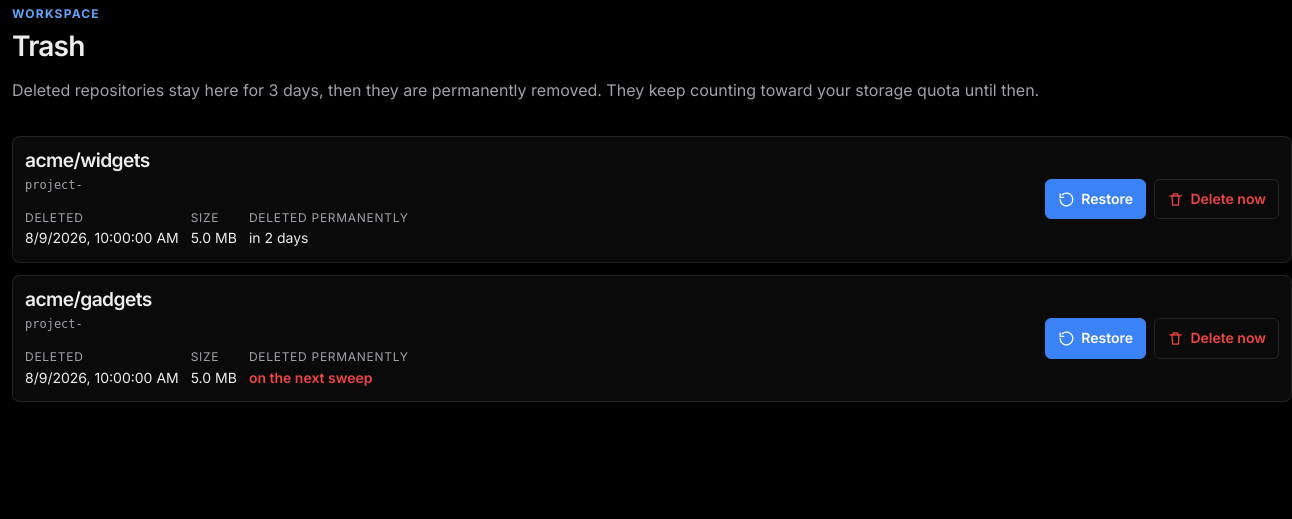
Test: TrashView › keeps the entry and reports the reason when a restore fails
Click the button with aria-label "Restore acme/widgets": (1096, 199) [1045,179,1146,219]
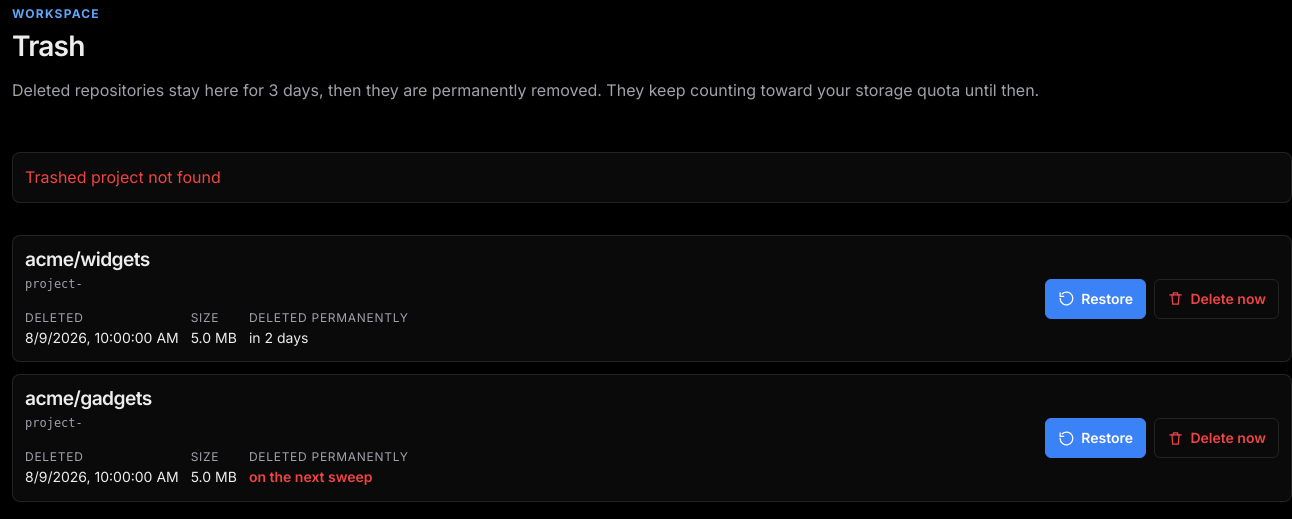
Check: the list item with test id "trash-project-1" is shown, box [12,235,1291,362]
Check: the message "Trashed project not found" is shown, box [12,152,1291,203]
